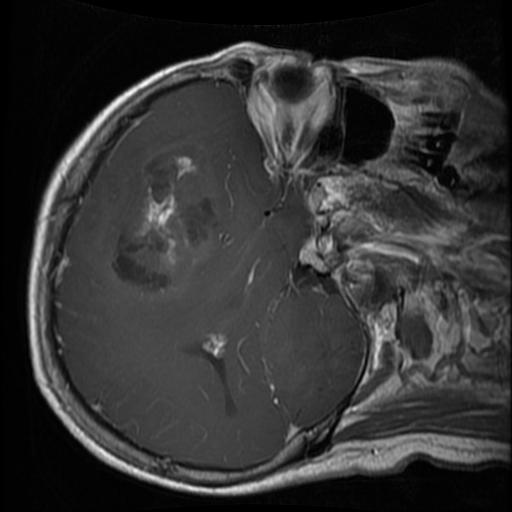glioma: (115, 142, 223, 308)
